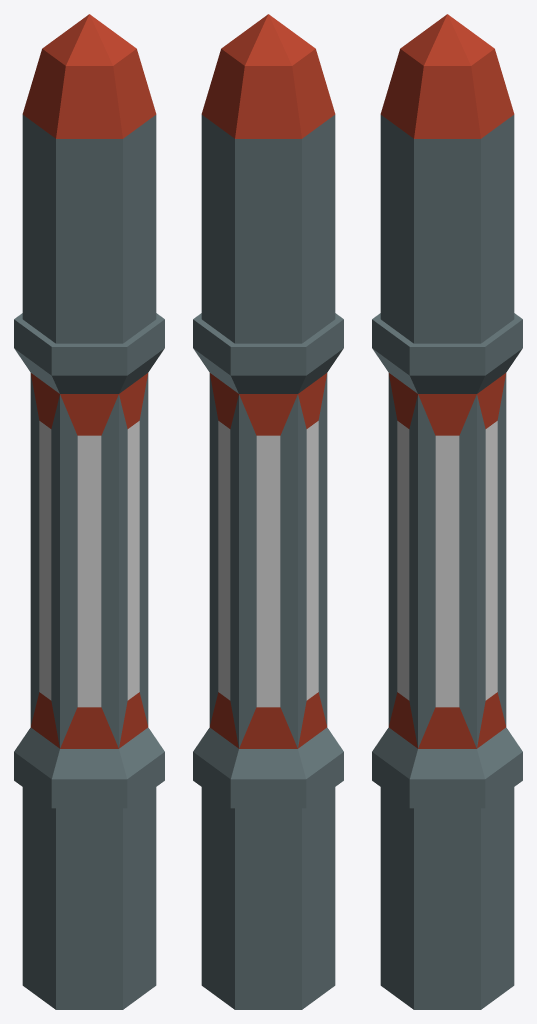
Rendered from Rocket.fbx.
3 renders of one model, left to right at view 1: azimuth 30°, elevation 25°; view 2: azimuth 150°, elevation 25°; view 3: azimuth 270°, elevation 25°, orthographic.
Visible parts, largest first — view 1: Rocket; view 2: Rocket; view 3: Rocket.
Part boxes in pixels (x1,y1,x2,y2): Rocket: [14, 14, 164, 1009]; Rocket: [193, 14, 343, 1009]; Rocket: [372, 14, 522, 1009].
Size of the model in its own units: 1.24 by 10.16 by 1.43.
Materials: 2 (1 with a texture image).
